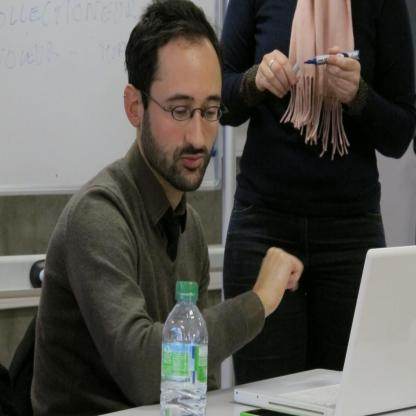board: (233, 242, 414, 416), (160, 278, 208, 416)
